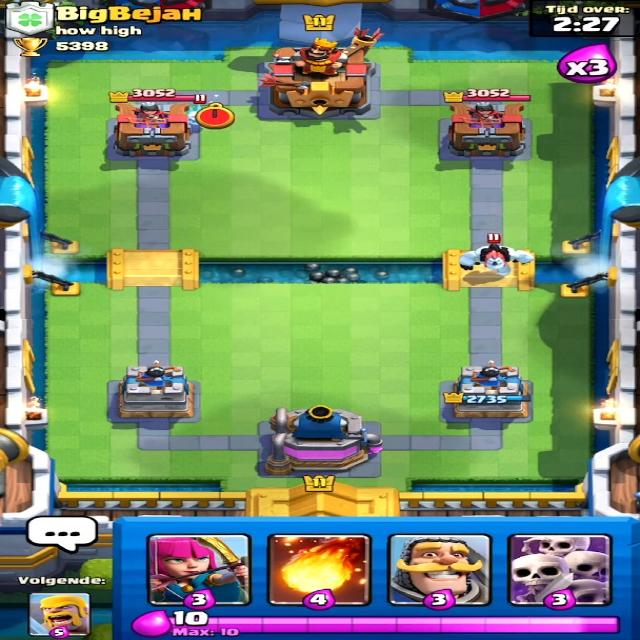Enemy_Ice_Golem_Troop: (440, 242, 548, 281)
Fireball_Card: (270, 534, 373, 605)
